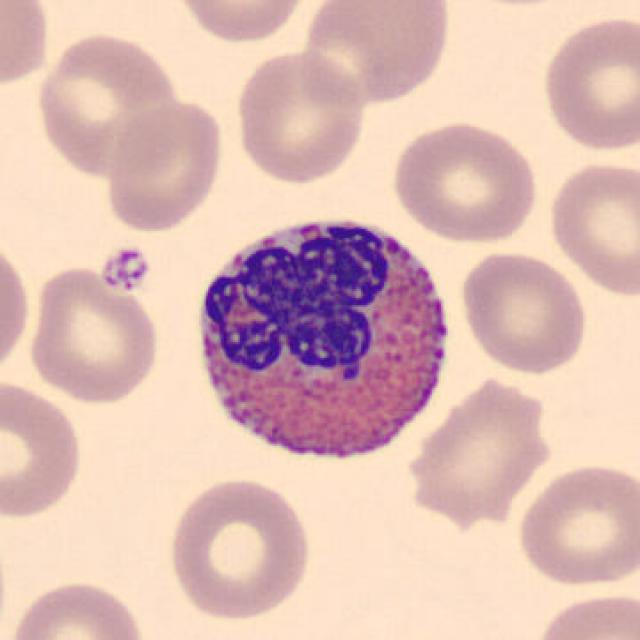Eosinophil: (185, 199, 464, 480)
Platelets: (98, 243, 153, 294)
RBC: (398, 372, 558, 527), (32, 28, 187, 180), (163, 473, 314, 624), (23, 262, 164, 406), (388, 118, 542, 245), (231, 46, 368, 187), (100, 95, 228, 235), (457, 245, 590, 377), (296, 0, 453, 109), (512, 458, 638, 590), (537, 11, 638, 155), (542, 155, 638, 300), (0, 376, 87, 524), (5, 575, 151, 640), (167, 0, 317, 46), (528, 587, 638, 640), (0, 234, 34, 384), (0, 0, 53, 93)
